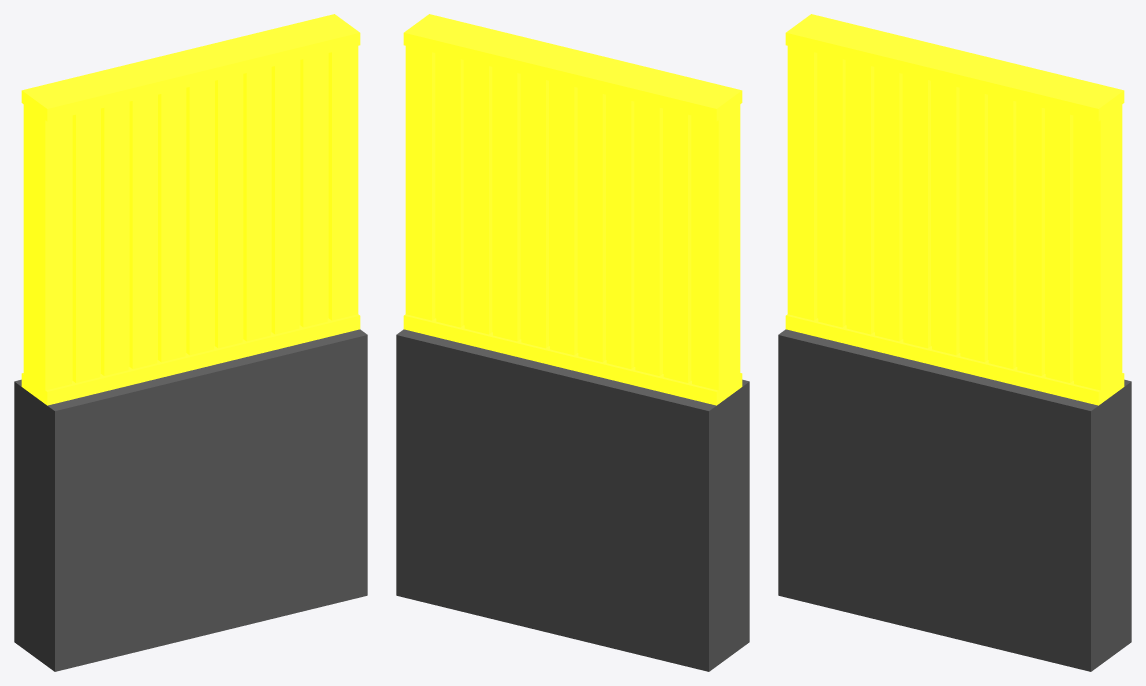
Rendered from Fence.fbx.
The picture shows the model from 3 angles, left to right: view 1: azimuth 30°, elevation 25°; view 2: azimuth 150°, elevation 25°; view 3: azimuth 330°, elevation 25°; orthographic projection.
Visible parts, largest first — view 1: Cube.004; view 2: Cube.004; view 3: Cube.004.
Part boxes in pixels (x1,y1,x2,y2): Cube.004: [14, 14, 367, 671]; Cube.004: [396, 14, 749, 671]; Cube.004: [778, 14, 1131, 671].
Size of the model in its own units: 2 by 3.4 by 0.4511.
